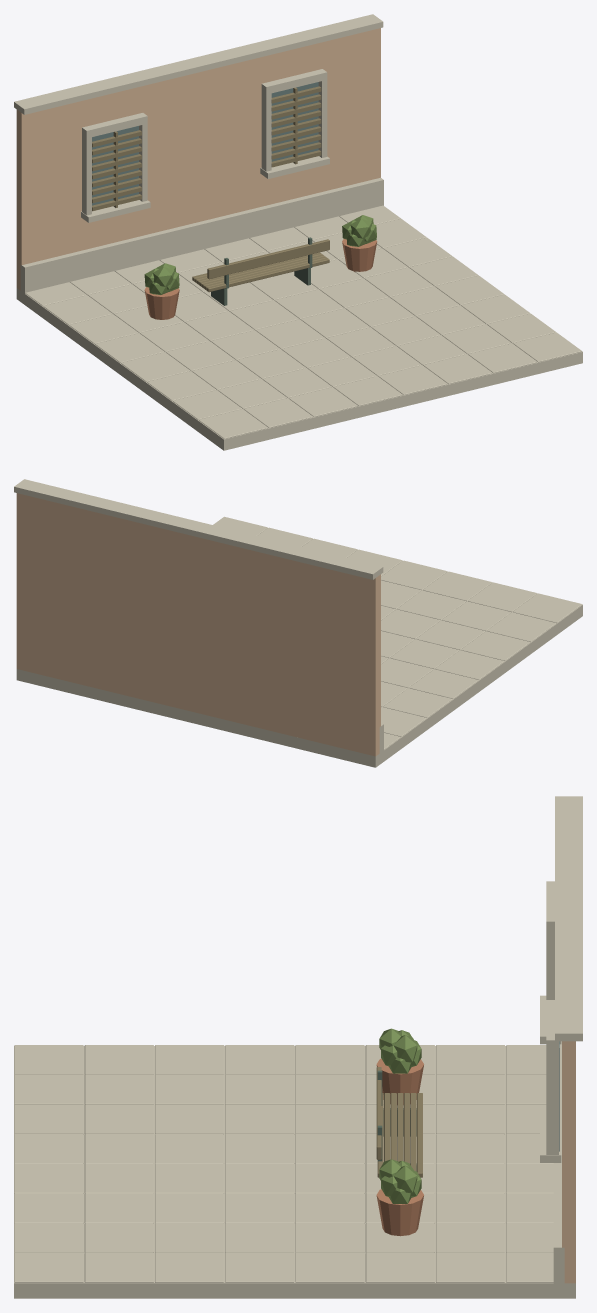
File: district-1-0-0.glb
The picture shows the model from 3 angles, top to bottom: view 1: azimuth 30°, elevation 25°; view 2: azimuth 150°, elevation 25°; view 3: azimuth 270°, elevation 25°; orthographic projection. The views are drawn at different scales.
Visible parts, largest first — view 1: stone.001, plaster.001, wood.001, glass.001, leaf, clay, metal; view 2: plaster.001, stone.001; view 3: stone.001, wood.001, plaster.001, leaf, clay.
Part boxes in pixels (x1,y1,x2,y2): stone.001: (14,14,582,450); plaster.001: (16,28,380,290); wood.001: (92,86,329,292); glass.001: (92,82,318,205); leaf: (144,215,376,294); clay: (144,239,377,319); metal: (211,237,312,305); plaster.001: (16,493,380,756); stone.001: (14,479,582,767); stone.001: (14,796,582,1298); wood.001: (376,1067,422,1177); plaster.001: (562,1041,575,1283); leaf: (379,1028,421,1203); clay: (376,1058,423,1236).
Bounding box in the file's own units: 8 × 4.16 × 8.1.
